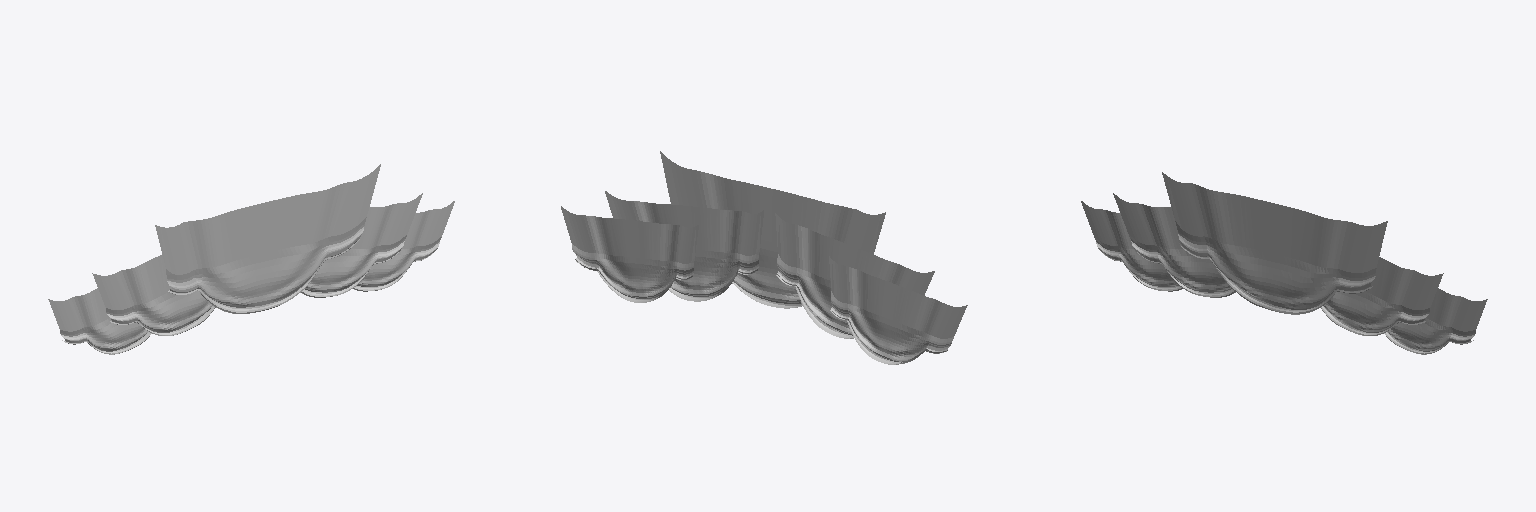
The model's file is curtainHanging.obj.
3 views of the same model, side by side, from view 1: azimuth 30°, elevation 25°; view 2: azimuth 150°, elevation 25°; view 3: azimuth 330°, elevation 25° (orthographic).
Parts seen in each view (by area): view 1: curtainHanging_Plane.000; view 2: curtainHanging_Plane.000; view 3: curtainHanging_Plane.000.
Boxes of the visible parts, x1=… form: curtainHanging_Plane.000: x1=48, y1=164, x2=454, y2=354; curtainHanging_Plane.000: x1=561, y1=151, x2=967, y2=364; curtainHanging_Plane.000: x1=1081, y1=172, x2=1487, y2=354.
Size of the model in its own units: 11.15 by 3.68 by 0.9037.